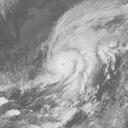cyclone: (35, 23, 101, 98)
